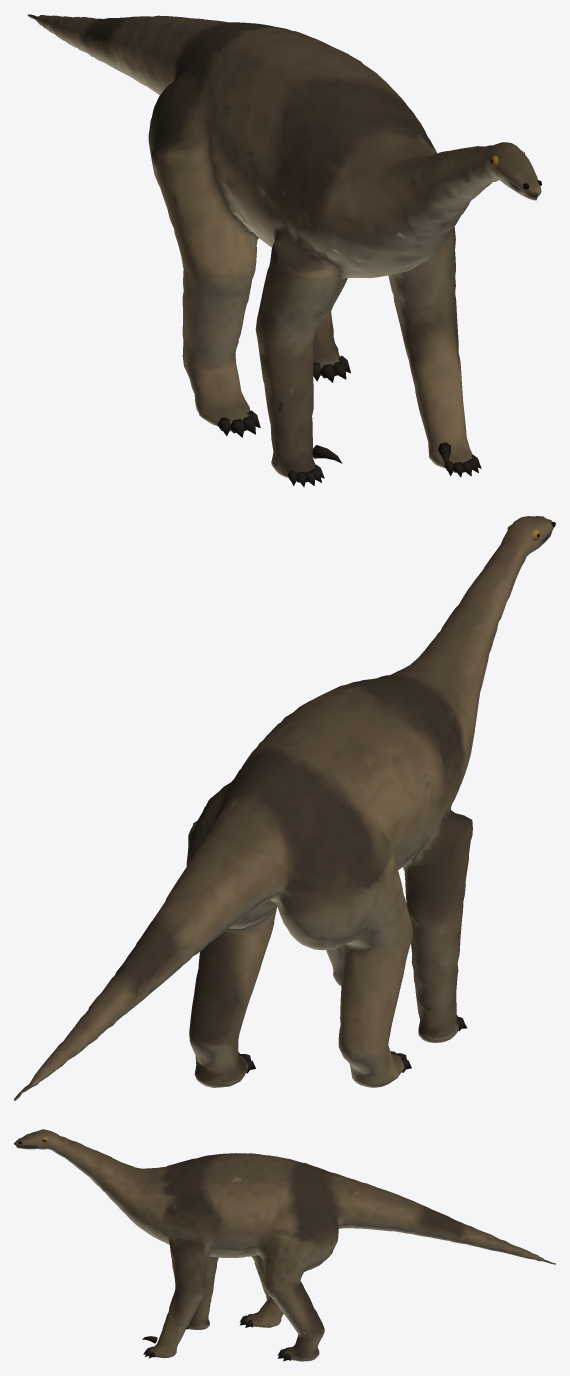
Rendered from Riojasaurus.fbx.
3 views of the same model, one above another, from view 1: azimuth 30°, elevation 25°; view 2: azimuth 150°, elevation 25°; view 3: azimuth 270°, elevation 25° (orthographic). The views are drawn at different scales.
Parts seen in each view (by area): view 1: Riojasaurus; view 2: Riojasaurus; view 3: Riojasaurus.
Part boxes in pixels (x1,y1,x2,y2): Riojasaurus: (27, 14, 541, 487); Riojasaurus: (14, 516, 555, 1100); Riojasaurus: (14, 1129, 555, 1361).
Bounding box in the file's own units: 0.4365 × 0.86 × 1.98.
